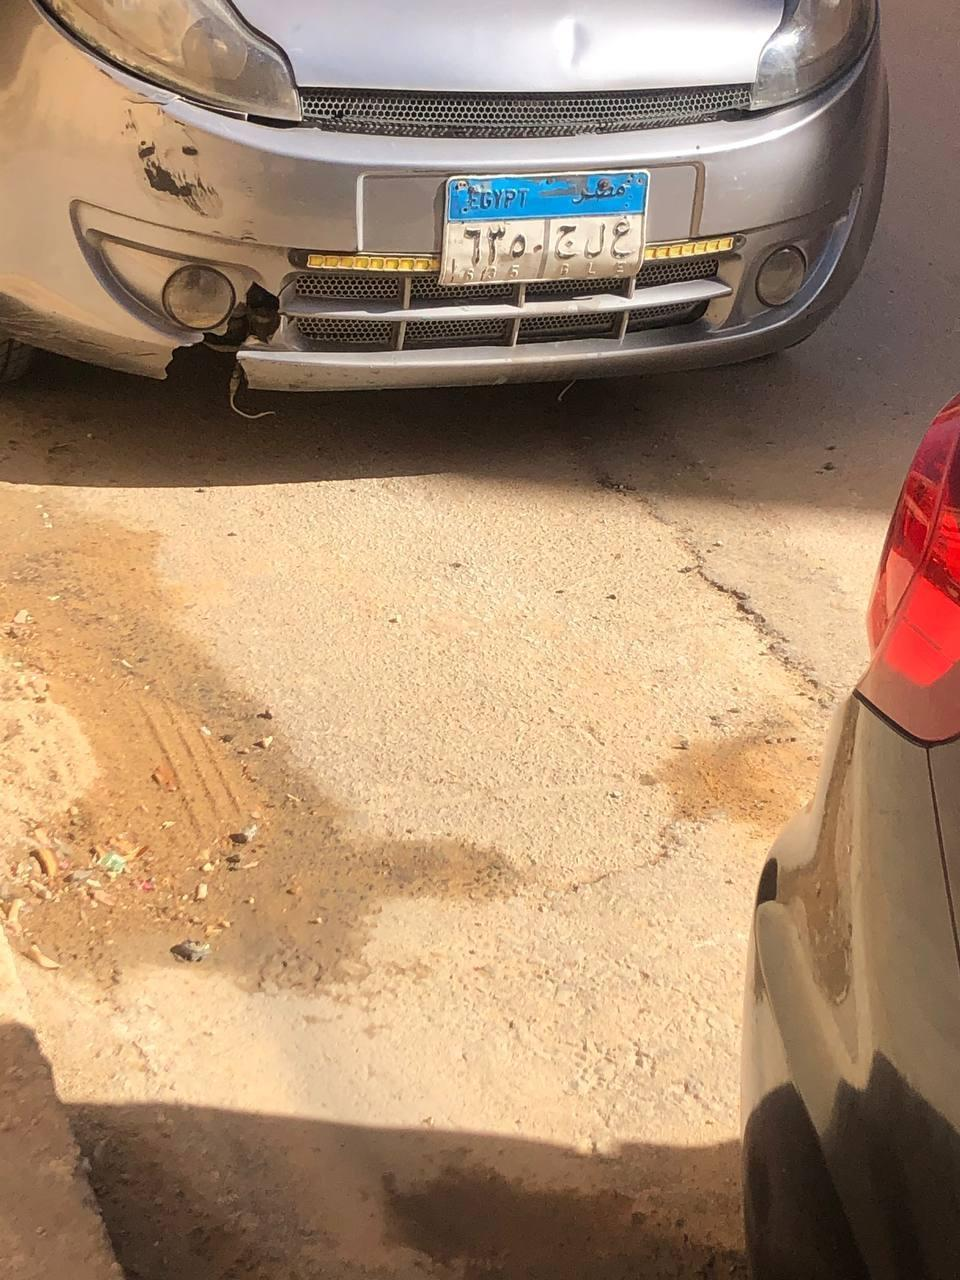3: (484, 224, 506, 264)
5: (509, 235, 526, 260)
6: (463, 228, 486, 270)
Een: (610, 222, 638, 258)
Laam: (586, 223, 608, 260)
License Plate: (441, 162, 651, 286)
geem: (553, 222, 579, 260)
